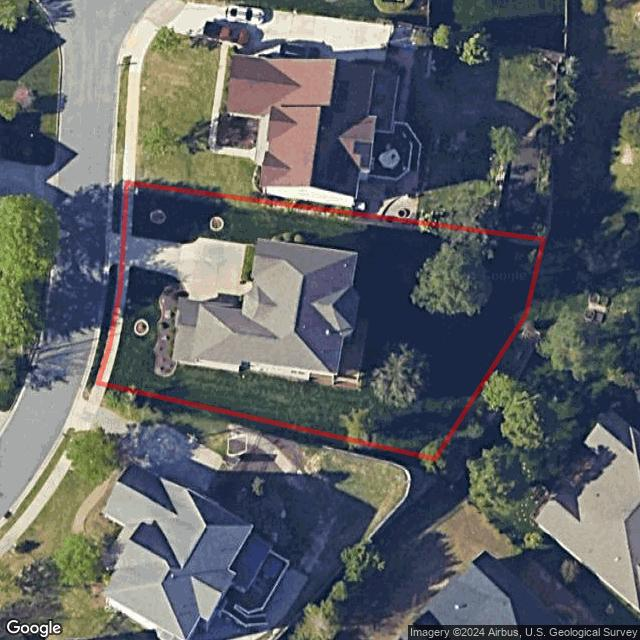Driveway: (123, 235, 254, 302)
Extra-Driveway: (108, 231, 126, 267)
Extra-Lawn: (89, 264, 118, 384), (111, 181, 123, 234)
Extra-Sidewalk: (96, 265, 123, 384), (120, 181, 127, 234)
House: (172, 239, 359, 387)
Lawn: (98, 183, 543, 459)
Other: (154, 284, 185, 377)
Sidewalk: (97, 266, 129, 387), (123, 183, 134, 236)
